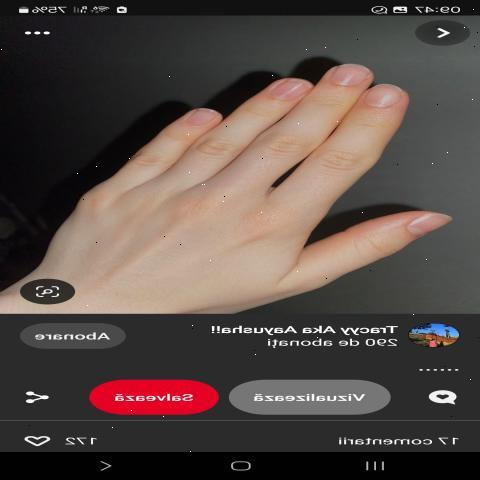Hands: (17, 43, 462, 311)
